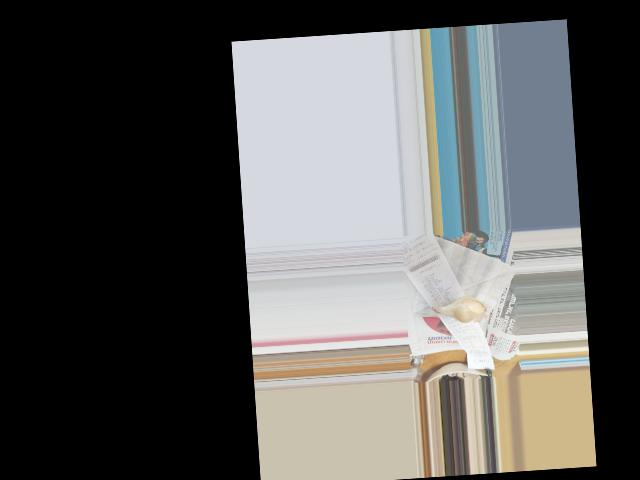onion: (447, 294, 487, 322)
